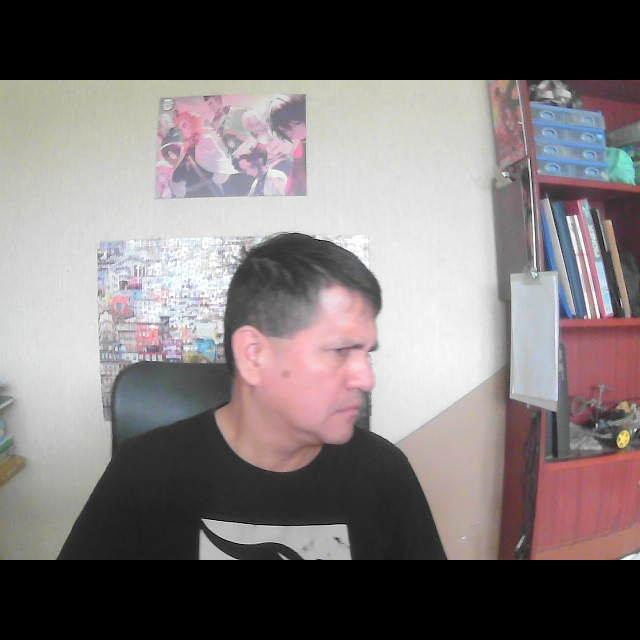cesar: (208, 224, 390, 472)
